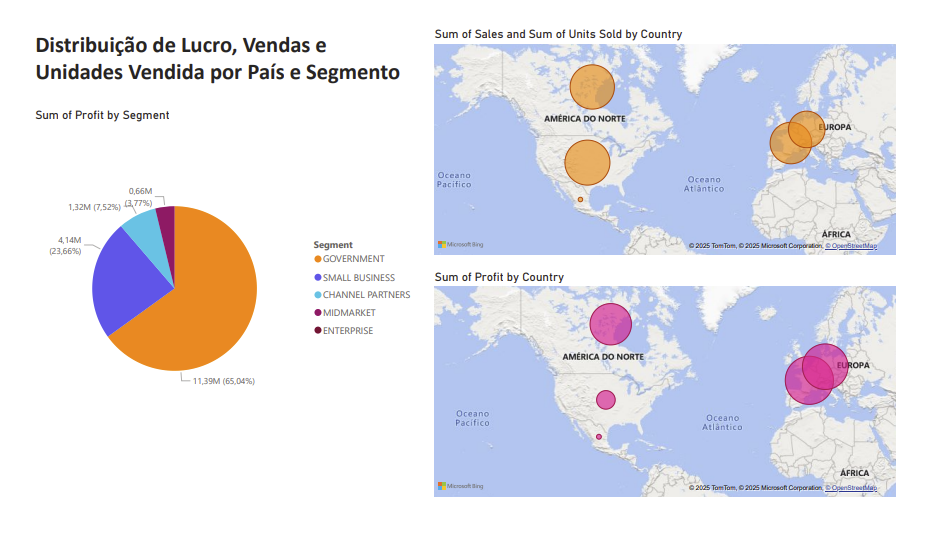

The dashboard page shown, as its layout file describes it:
{"tool":"powerbi","page":{"name":"Page 3","canvas":[1280,720],"ordinal":2},"visuals":[{"type":"pieChart","fields":{"Category":["financials.Segment"],"Y":["Sum(financials.Profit)"]},"box":[24,131,552,493],"z":0},{"type":"textbox","box":[24,16,552,90],"z":1000},{"type":"map","fields":{"Category":["financials.Country"],"Size":["Sum(financials.Sales)"]},"box":[590.8,16.4,664.2,327.8],"z":1001},{"type":"map","fields":{"Category":["financials.Country"],"Size":["Sum(financials.Profit)"]},"box":[590.8,359.7,664.2,327.8],"z":1002}]}

Visuals, with their boxes in screenshot pixels (x1, y1, x2, y2), scaled from the page's 1280x720 canvas onto the 930x537 screenshot:
pieChart - financials.Segment x Sum(financials.Profit): box=[17, 98, 418, 465]
textbox: box=[17, 12, 418, 79]
map - financials.Country x Sum(financials.Sales): box=[429, 12, 912, 257]
map - financials.Country x Sum(financials.Profit): box=[429, 268, 912, 513]
